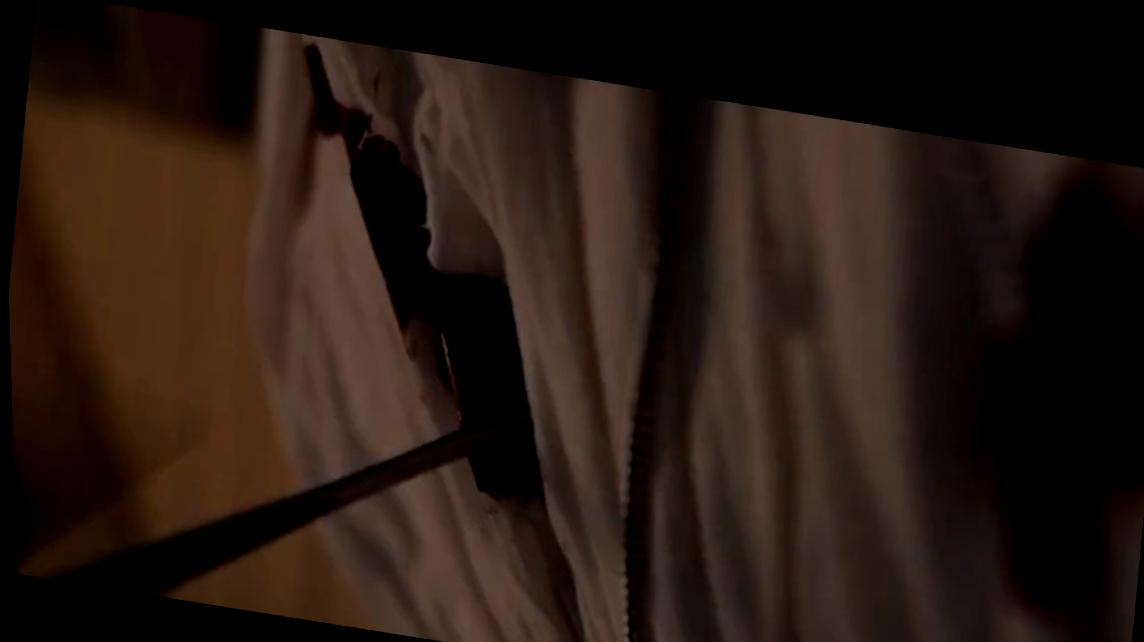Fire: (303, 42, 524, 424), (974, 158, 1144, 615), (464, 425, 536, 499)
